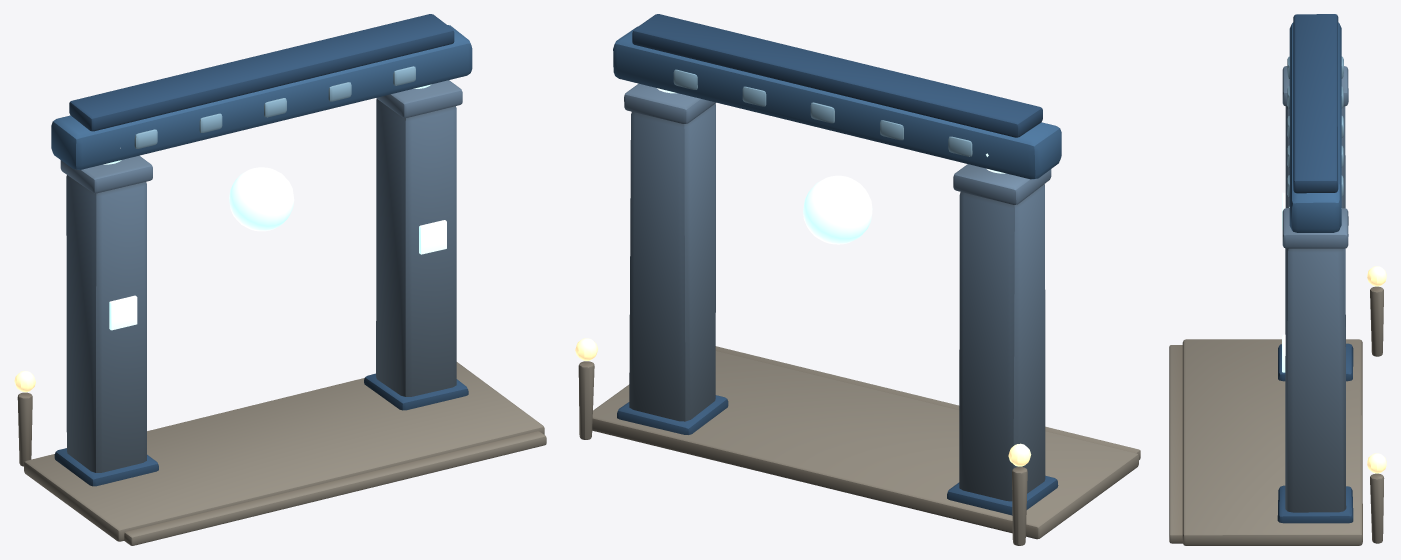
3 renders of one model, left to right at view 1: azimuth 30°, elevation 25°; view 2: azimuth 150°, elevation 25°; view 3: azimuth 270°, elevation 25°, orthographic. The views are drawn at different scales.
Visible parts, largest first — view 1: gate_3c242afc; view 2: gate_3c242afc; view 3: gate_3c242afc.
Boxes of the visible parts, x1,y1,x2,y2 form: gate_3c242afc: [14, 14, 546, 545]; gate_3c242afc: [575, 14, 1140, 545]; gate_3c242afc: [1169, 14, 1386, 545].
Bounding box in the file's own units: 5.43 × 4.55 × 2.54.
